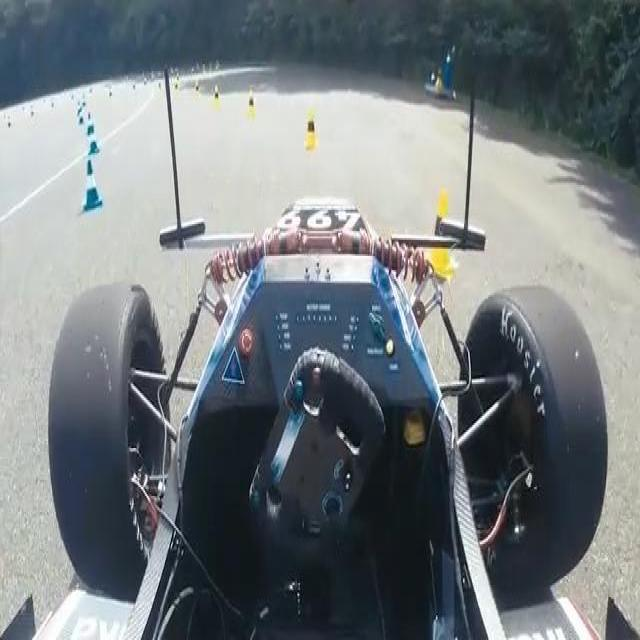blue_cone: (82, 156, 104, 210), (88, 126, 100, 157), (85, 112, 95, 137)
yellow_cone: (423, 187, 455, 280), (303, 108, 318, 152), (246, 91, 256, 120)
